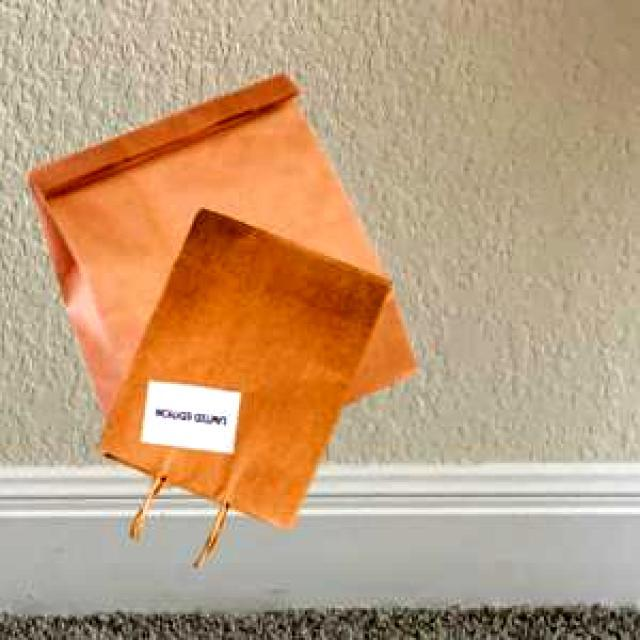Paper_Bag: (24, 70, 414, 422), (95, 206, 388, 558)
